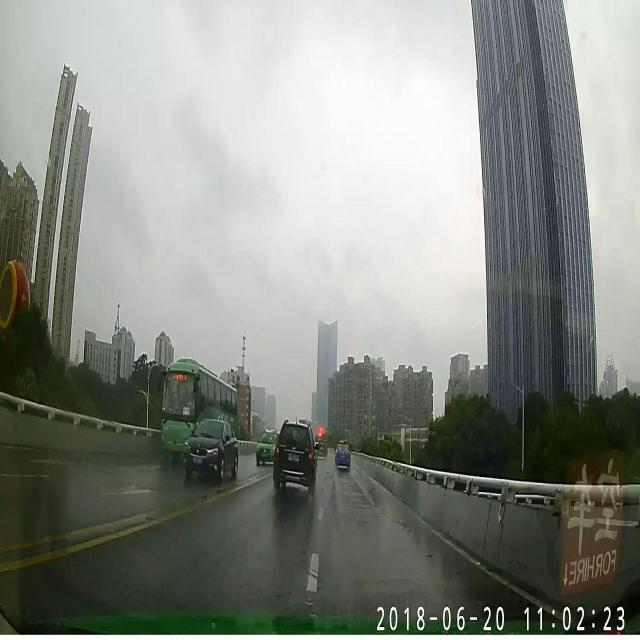car: (182, 417, 240, 482), (272, 416, 318, 494), (256, 426, 278, 464), (334, 438, 352, 472), (314, 436, 328, 458)
